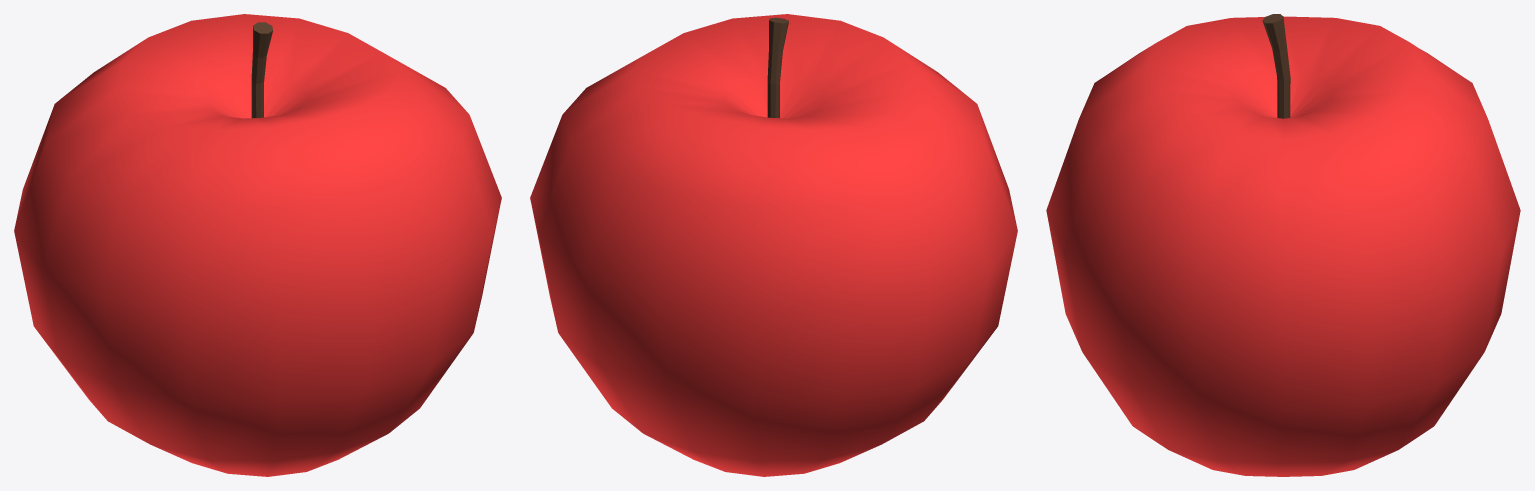
Rendered from Apple0star.fbx.
3 renders of one model, left to right at view 1: azimuth 30°, elevation 25°; view 2: azimuth 150°, elevation 25°; view 3: azimuth 270°, elevation 25°, orthographic. The views are drawn at different scales.
Visible parts, largest first — view 1: Apple; view 2: Apple; view 3: Apple.
Boxes of the visible parts, x1,y1,x2,y2 form: Apple: (14, 14, 501, 476); Apple: (530, 14, 1017, 476); Apple: (1046, 14, 1520, 476).
Size of the model in its own units: 223 by 204 by 207.
